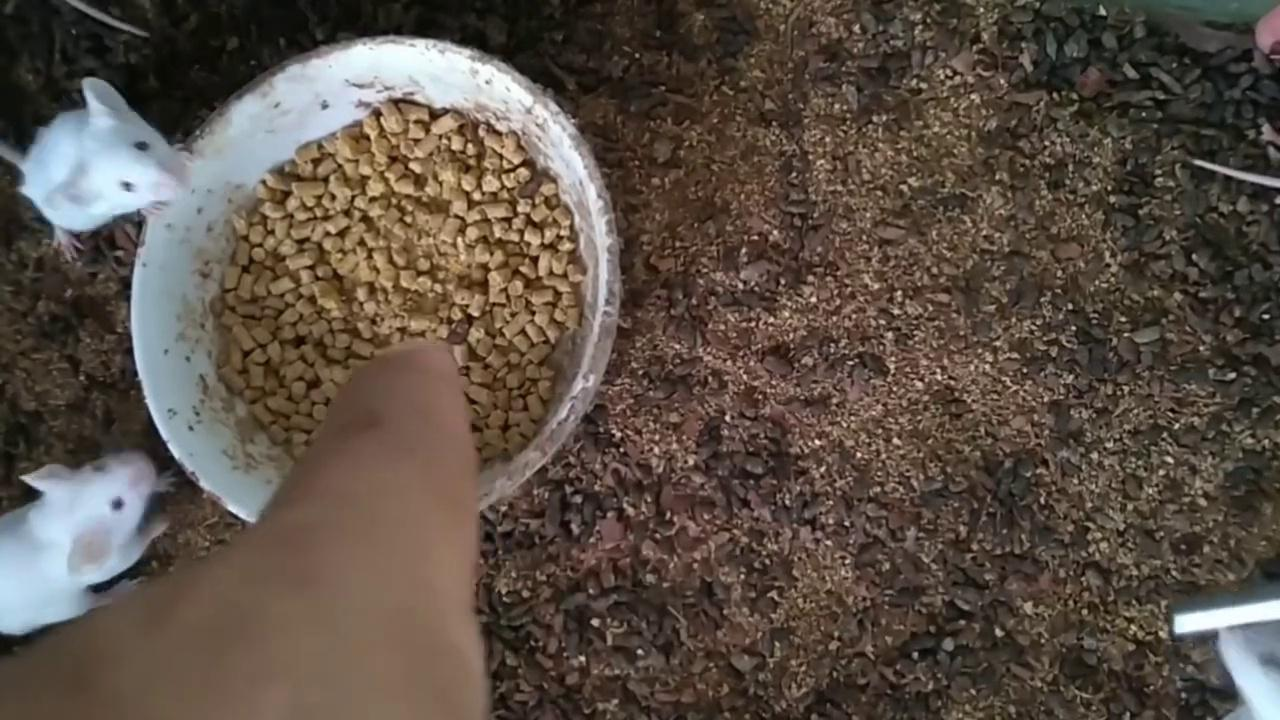rat: (0, 77, 195, 262), (0, 449, 178, 636)
